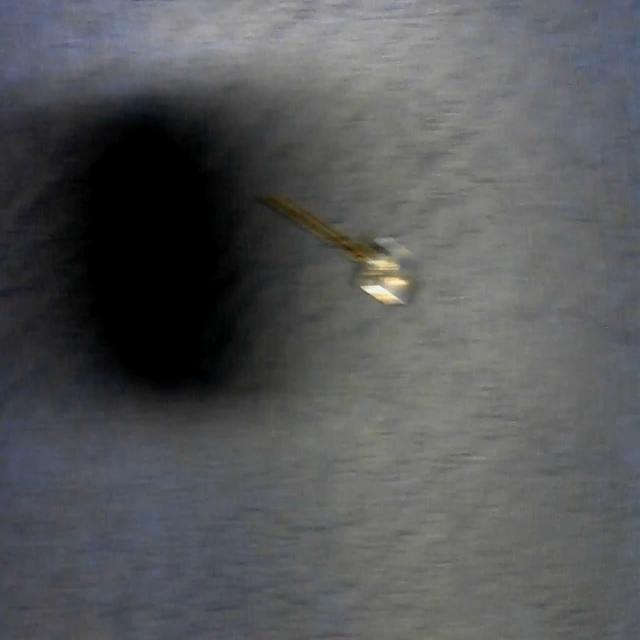LED: (264, 186, 418, 313)
